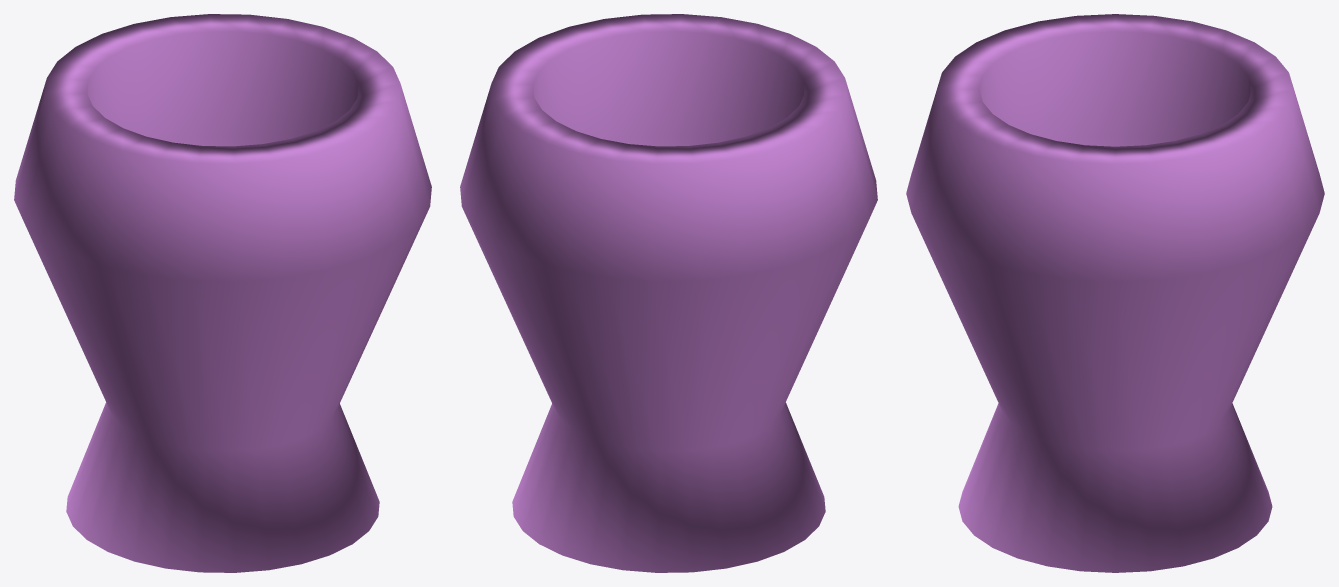
Rendered from underwater-reef-worlds-vase-sponge-dfdd79d5__7016.glb.
3 views of the same model, side by side, from view 1: azimuth 30°, elevation 25°; view 2: azimuth 150°, elevation 25°; view 3: azimuth 270°, elevation 25° (orthographic).
Visible parts, largest first — view 1: vase-sponge; view 2: vase-sponge; view 3: vase-sponge.
Boxes of the visible parts, bbox=[...] form: vase-sponge: bbox=[14, 14, 431, 572]; vase-sponge: bbox=[460, 14, 877, 572]; vase-sponge: bbox=[906, 14, 1324, 572].
Bounding box in the file's own units: 1 × 1.1 × 1.
